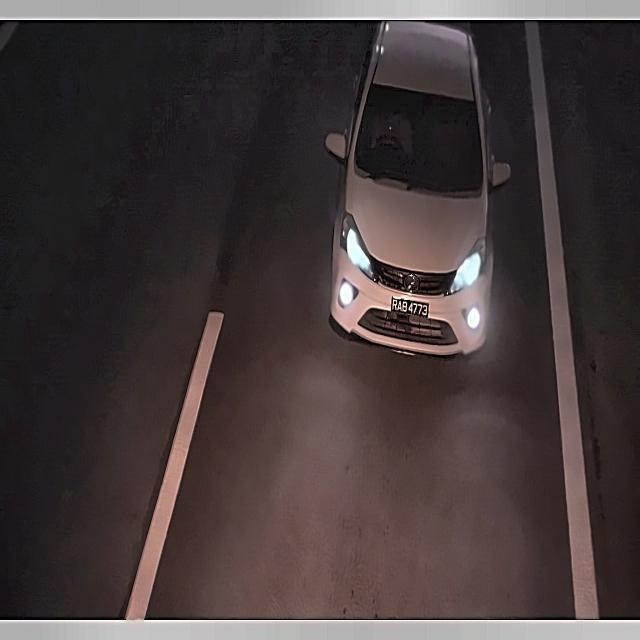car: (387, 289, 436, 324)
